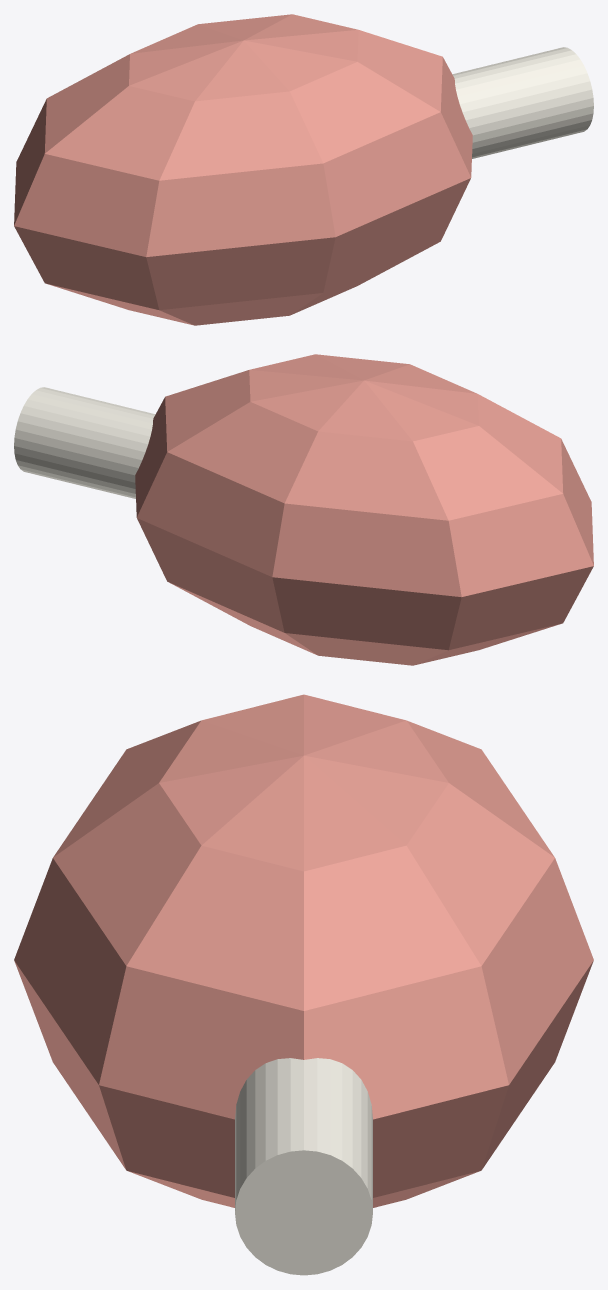
The model's file is meat.glb.
The picture shows the model from 3 angles, top to bottom: view 1: azimuth 30°, elevation 25°; view 2: azimuth 150°, elevation 25°; view 3: azimuth 270°, elevation 25°; orthographic projection. The views are drawn at different scales.
Visible parts, largest first — view 1: meat, bone; view 2: meat, bone; view 3: meat, bone.
Boxes of the visible parts, x1,y1,x2,y2 form: meat: [14, 14, 472, 325]; bone: [452, 47, 593, 158]; meat: [135, 354, 593, 665]; bone: [14, 387, 155, 498]; meat: [14, 694, 593, 1207]; bone: [235, 1058, 372, 1275].
Size of the model in its own units: 0.221 by 0.098 by 0.126.
